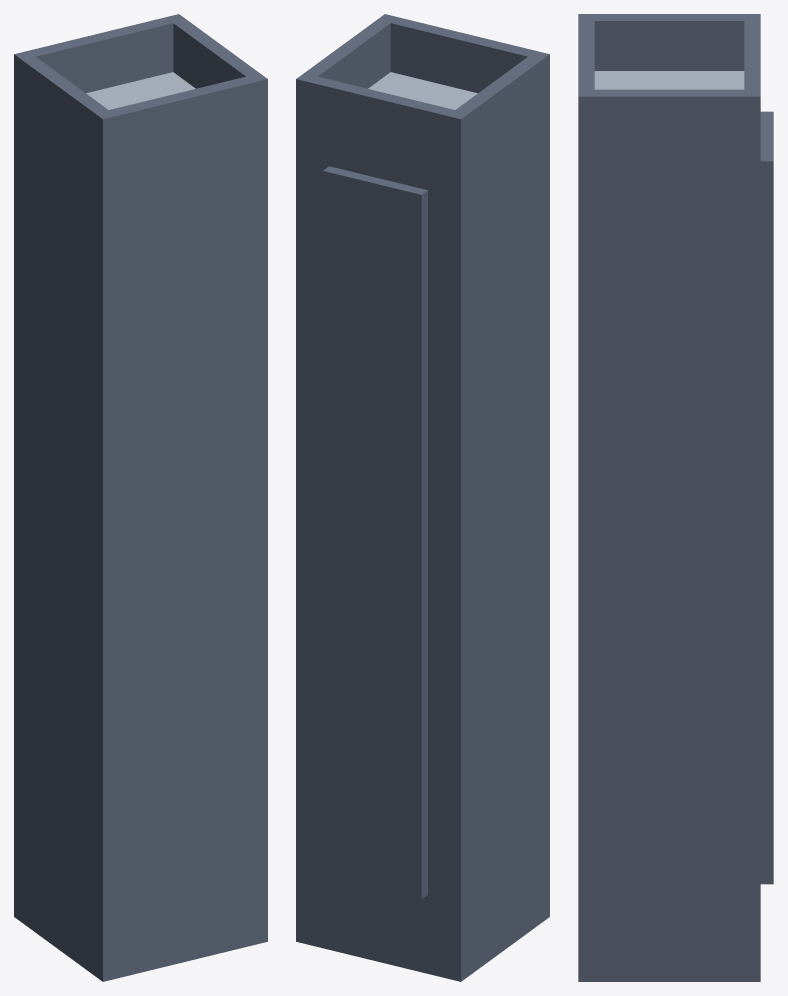
The model's file is 上下出光壁灯-lite.glb.
3 views of the same model, side by side, from view 1: azimuth 30°, elevation 25°; view 2: azimuth 150°, elevation 25°; view 3: azimuth 270°, elevation 25° (orthographic). The views are drawn at different scales.
Visible parts, largest first — view 1: up-down-wall-lamp-body, up-down-wall-lamp-diffuser; view 2: up-down-wall-lamp-body, up-down-wall-lamp-diffuser; view 3: up-down-wall-lamp-body, up-down-wall-lamp-diffuser.
Boxes of the visible parts, left/top/right/bottom form: up-down-wall-lamp-body: left=14, top=14, right=267, bottom=981; up-down-wall-lamp-diffuser: left=86, top=72, right=195, bottom=109; up-down-wall-lamp-body: left=296, top=14, right=549, bottom=981; up-down-wall-lamp-diffuser: left=368, top=72, right=477, bottom=109; up-down-wall-lamp-body: left=578, top=14, right=773, bottom=981; up-down-wall-lamp-diffuser: left=594, top=71, right=744, bottom=89.
Size of the model in its own units: 0.06 by 0.3 by 0.06.
